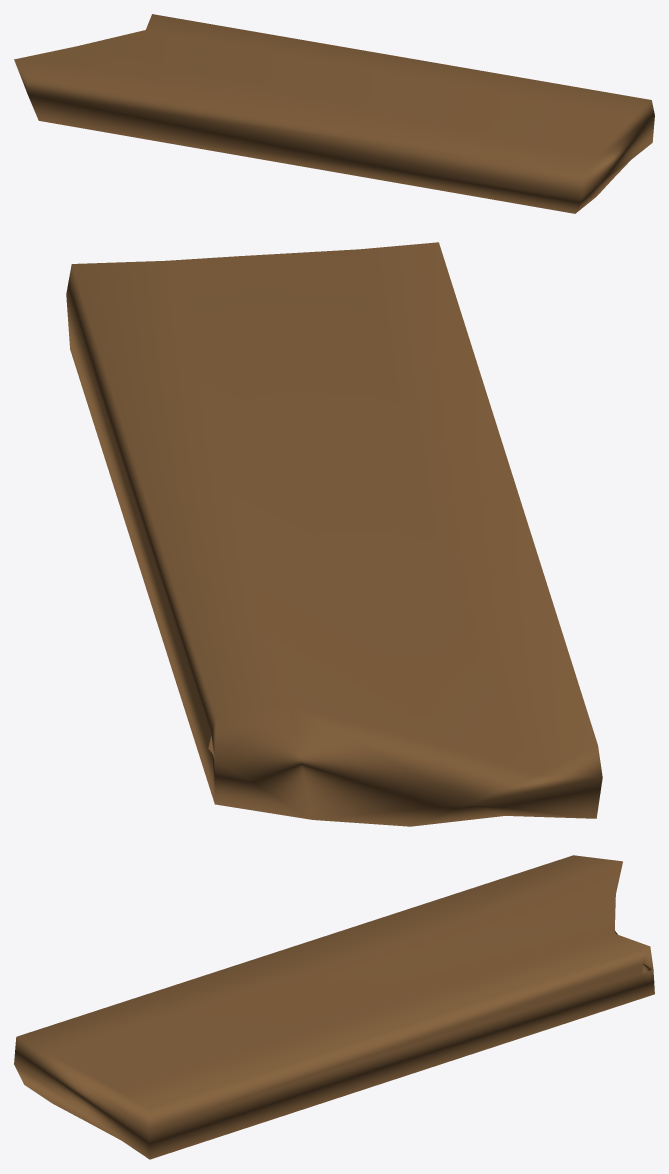
Rendered from plank_6.fbx.
The picture shows the model from 3 angles, top to bottom: view 1: azimuth 30°, elevation 25°; view 2: azimuth 150°, elevation 25°; view 3: azimuth 270°, elevation 25°; orthographic projection. The views are drawn at different scales.
Visible parts, largest first — view 1: plankb..002; view 2: plankb..002; view 3: plankb..002.
Part boxes in pixels (left/top/right/bottom): plankb..002: left=14, top=14, right=654, bottom=213; plankb..002: left=66, top=242, right=602, bottom=826; plankb..002: left=14, top=855, right=654, bottom=1159.
Size of the model in its own units: 3568 by 327 by 3778.
